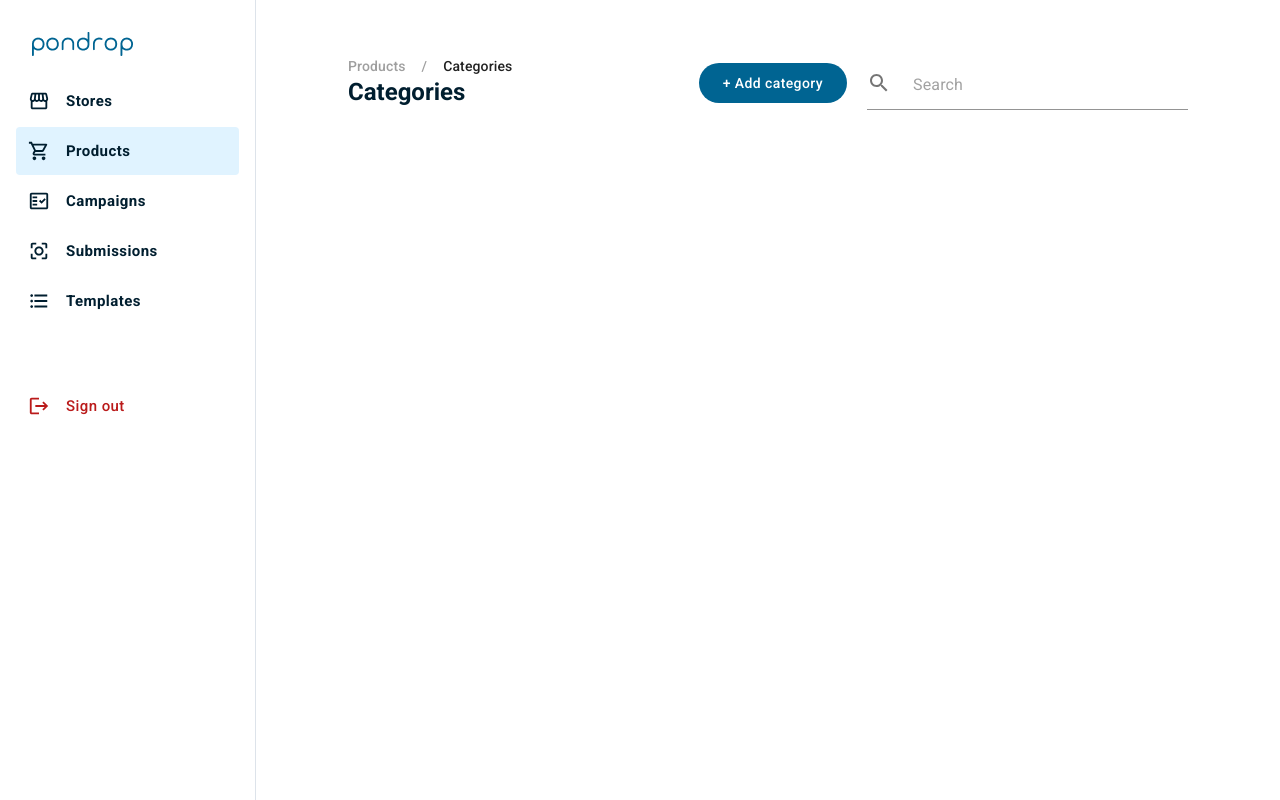
Test: <App /> › should show Submissions page
This screenshot has width=1280, height=800.
Click the button with test id "panel-submissions-btn". click: (128, 251)
box: x1=16 y1=227 x2=239 y2=275
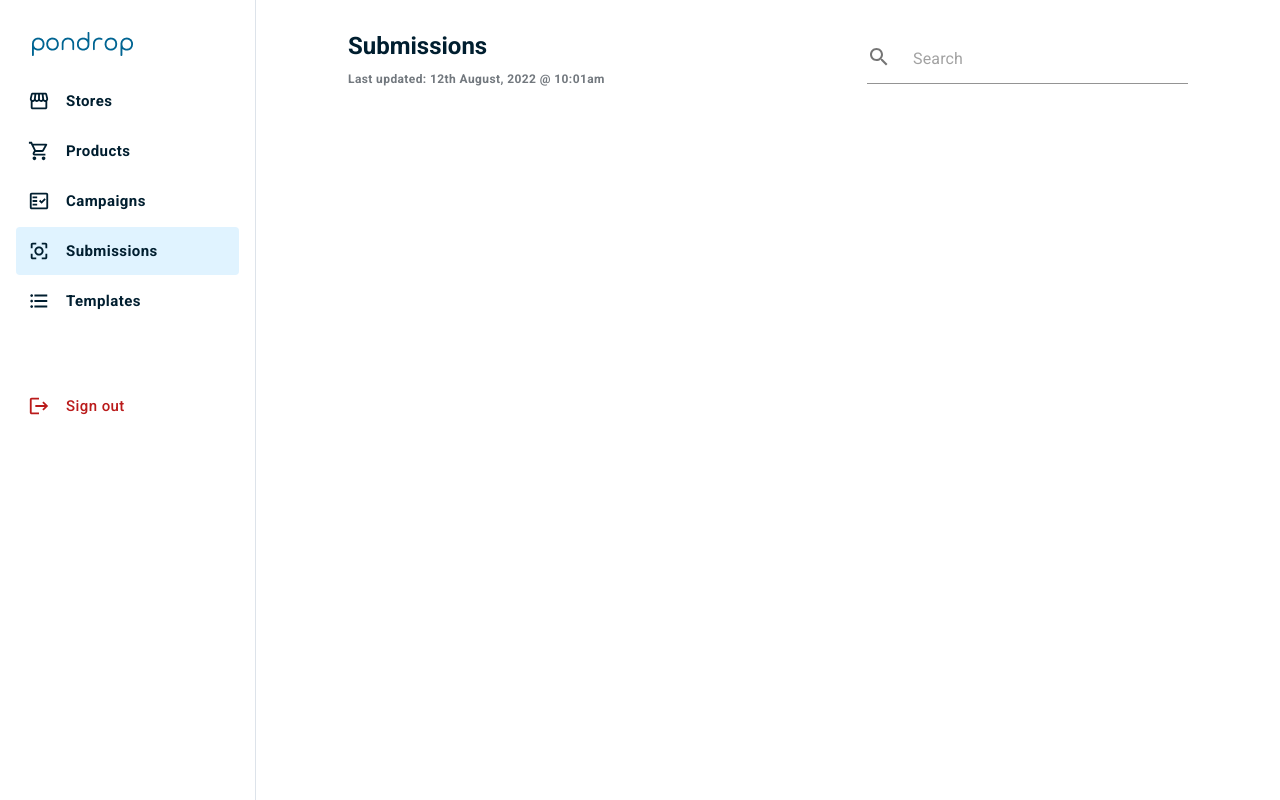
Check: the heading "Submissions" is shown, box x1=348 y1=32 x2=487 y2=60
